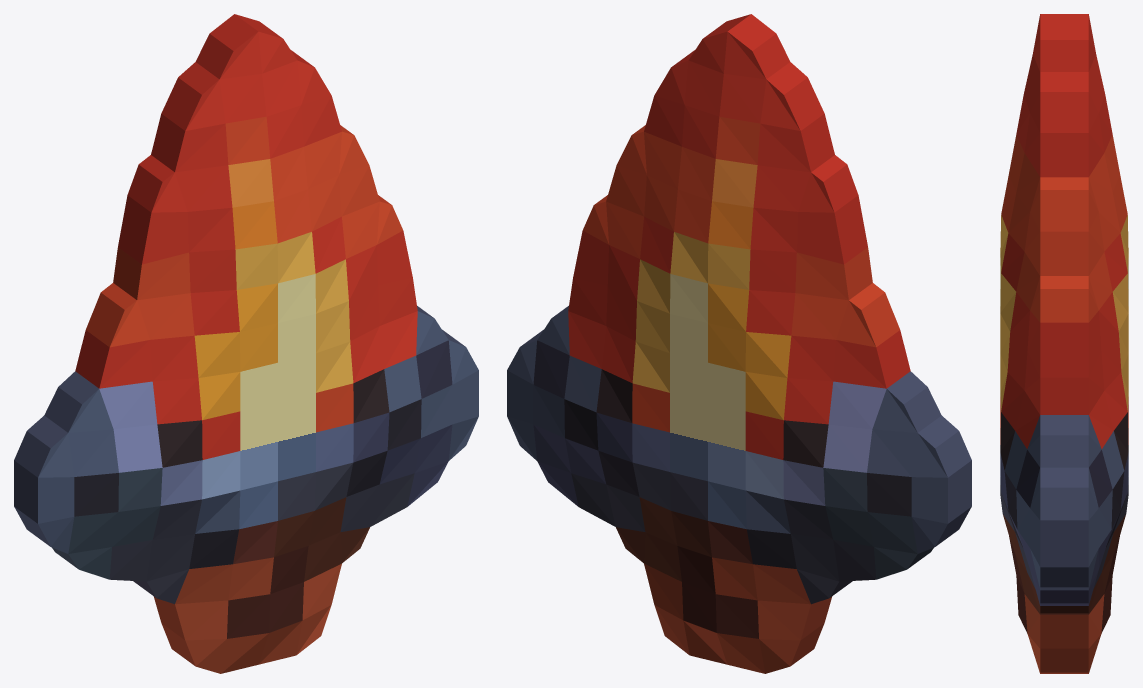
File: flame_jet_trap.glb
3 renders of one model, left to right at view 1: azimuth 30°, elevation 25°; view 2: azimuth 150°, elevation 25°; view 3: azimuth 270°, elevation 25°, orthographic.
Parts seen in each view (by area): view 1: flame_jet_trap; view 2: flame_jet_trap; view 3: flame_jet_trap.
Boxes of the visible parts, <box> form: flame_jet_trap: <box>14,14,478,673</box>; flame_jet_trap: <box>507,14,971,673</box>; flame_jet_trap: <box>1000,14,1128,673</box>.
Bounding box in the file's own units: 0.7287 × 1 × 0.1813.
1 material, 1 textured.
